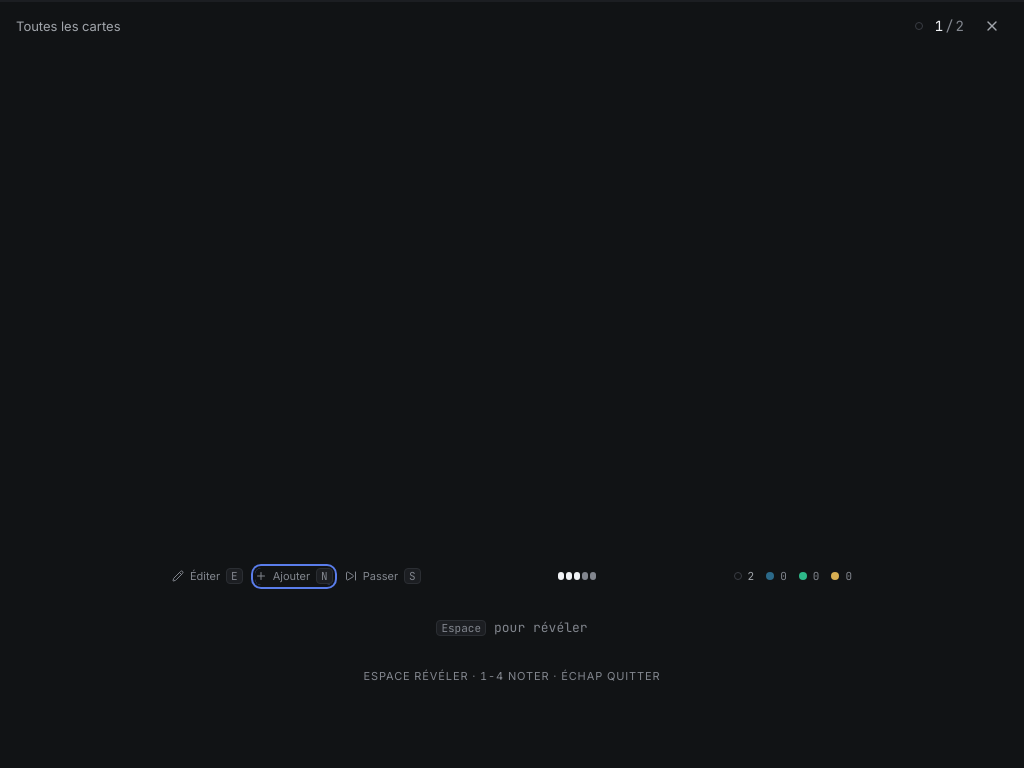
Test: <ReviewSession> — the quick add is reachable from the screen itself › gives the focus back to the control that opened it
expect the button with aria-label "Passer cette carte sans la noter (S)" is shown: met, box [345,568,421,585]
Click the button with aria-label "Ajouter une carte sans quitter la session (N)" at (294, 576), box [255,568,333,585]
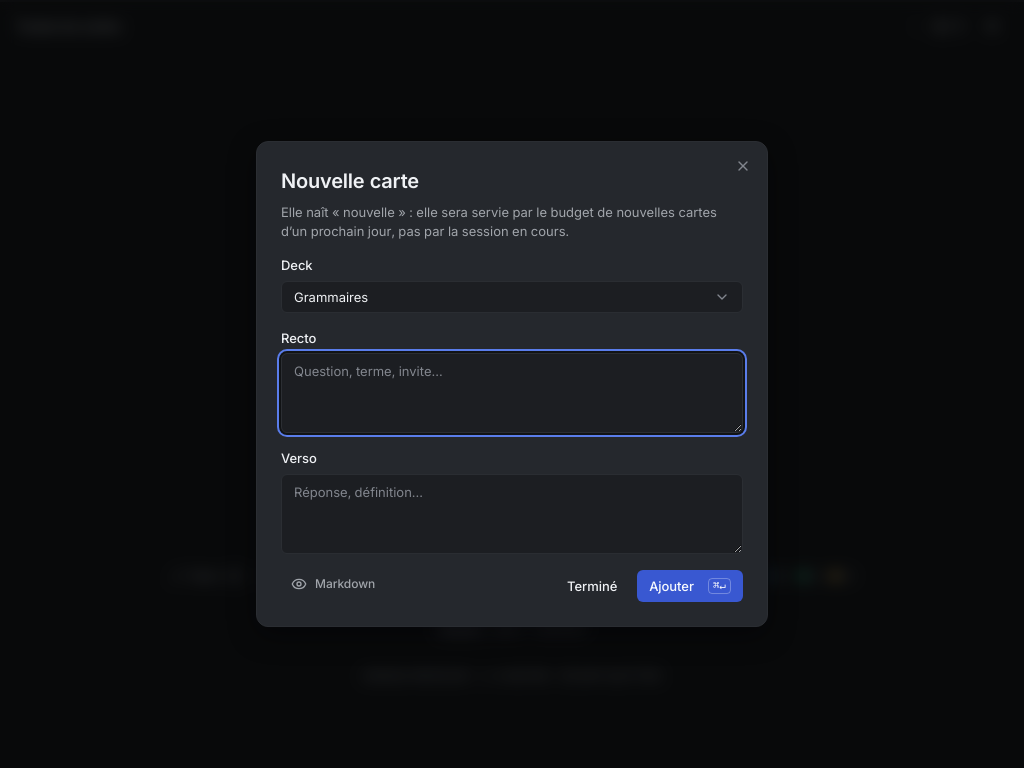
Press Escape in the dialog, box [256,141,768,627]
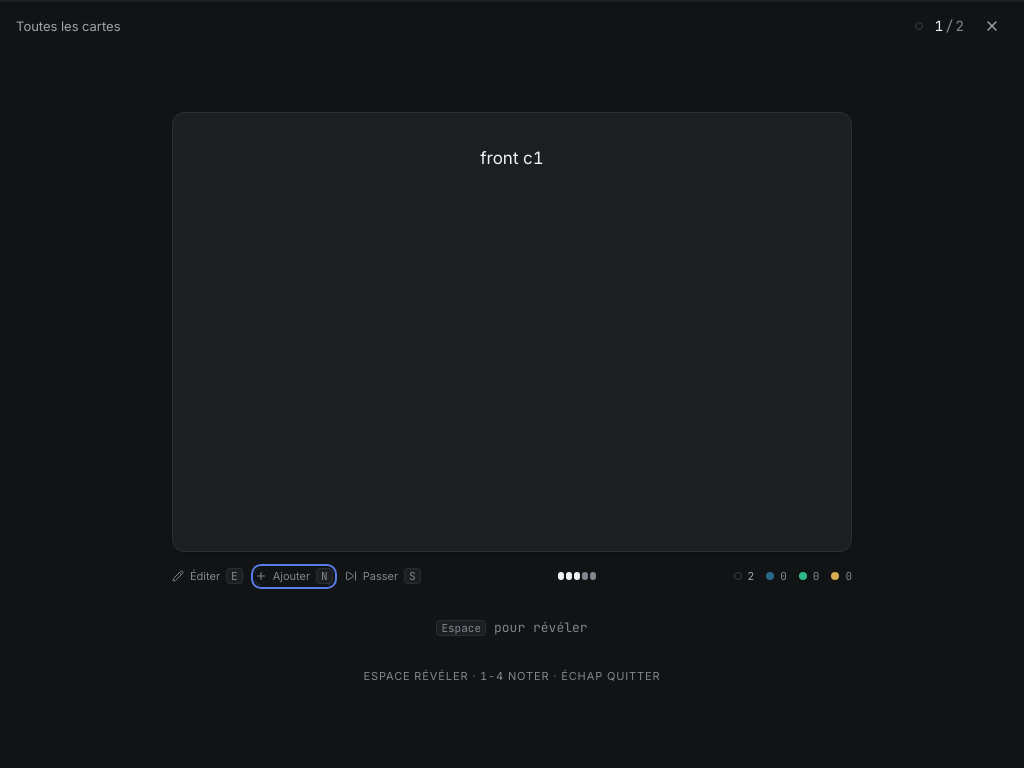
expect the dialog is gone: met
